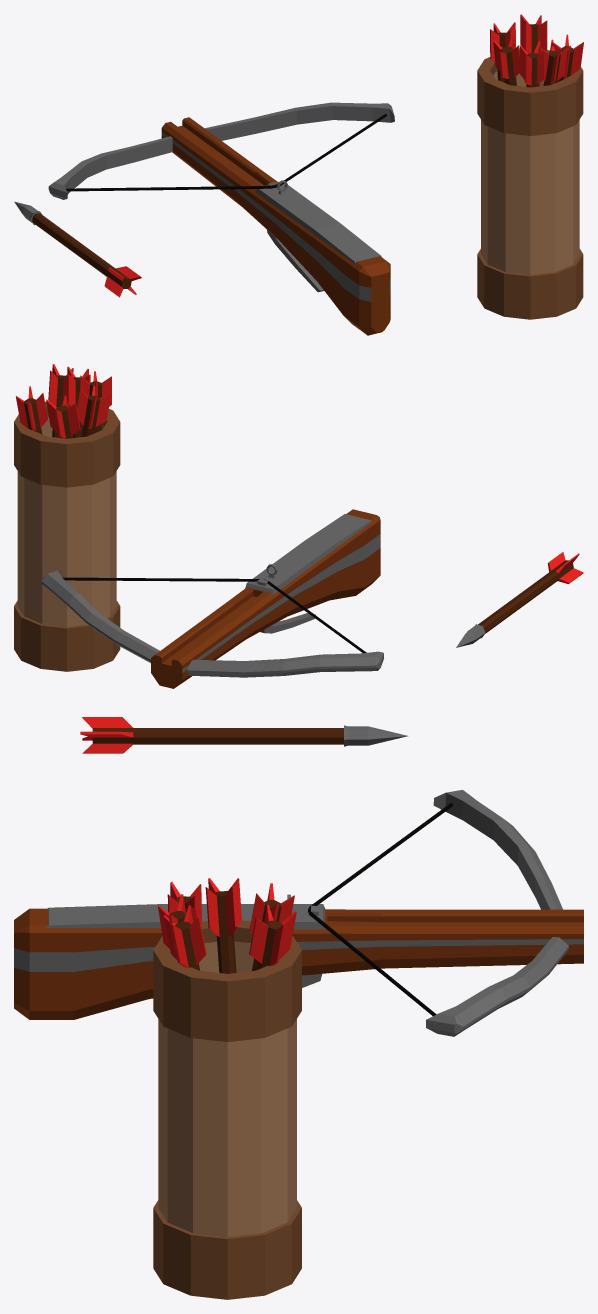
File: LP archery set.fbx
The picture shows the model from 3 angles, top to bottom: view 1: azimuth 30°, elevation 25°; view 2: azimuth 150°, elevation 25°; view 3: azimuth 270°, elevation 25°; orthographic projection. The views are drawn at different scales.
Visible parts, largest first — view 1: Cylinder.001, crossbow, Arrow; view 2: Cylinder.001, crossbow, Arrow; view 3: Cylinder.001, crossbow, Arrow.
Part boxes in pixels (box(x1,y1,x2,y2)): Cylinder.001: box(477, 14, 583, 319); crossbow: box(48, 102, 394, 335); Arrow: box(14, 201, 141, 297); Cylinder.001: box(14, 364, 120, 671); crossbow: box(41, 509, 383, 688); Arrow: box(456, 552, 583, 647); Cylinder.001: box(153, 878, 301, 1299); crossbow: box(14, 789, 583, 1036); Arrow: box(80, 717, 407, 753).
Size of the model in its own units: 3905 by 1945 by 2698.
